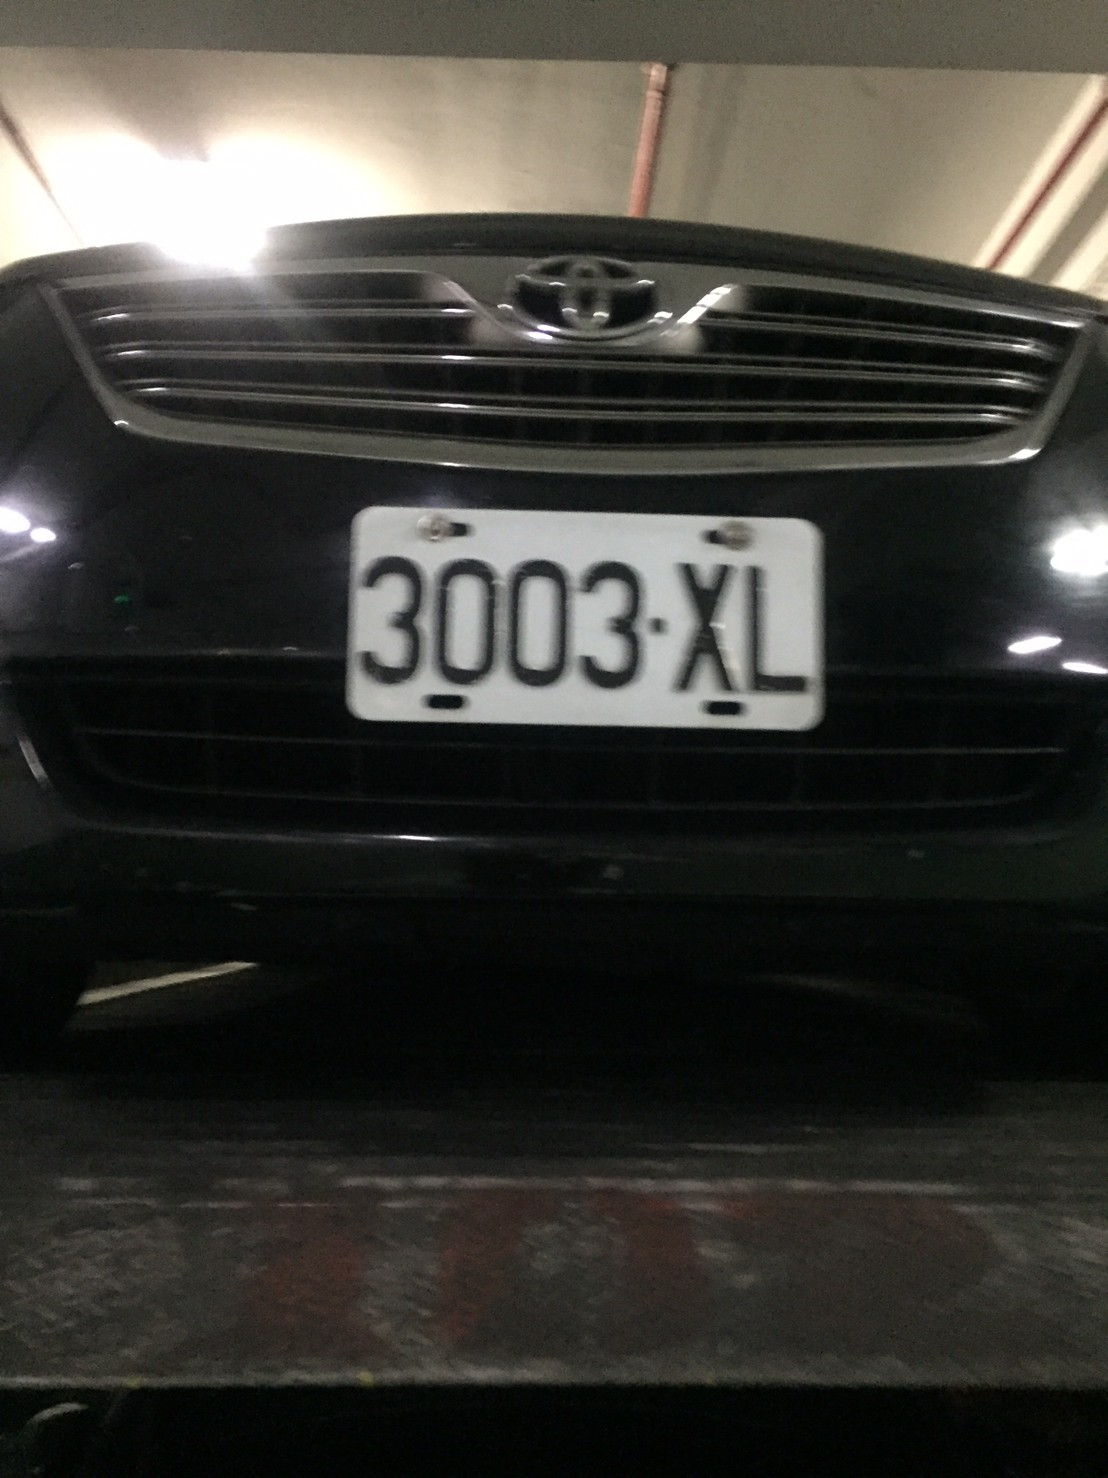LP: (353, 504, 822, 733)
